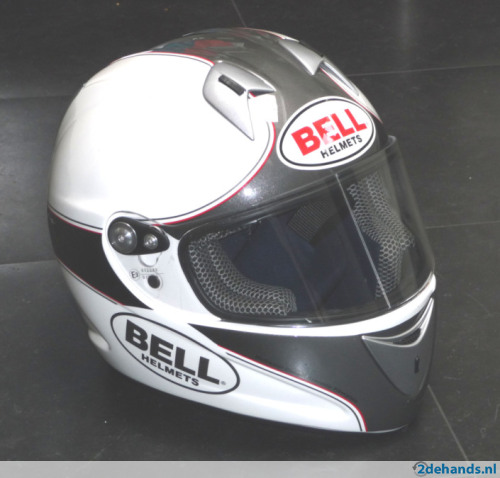helmet: (42, 29, 443, 443)
